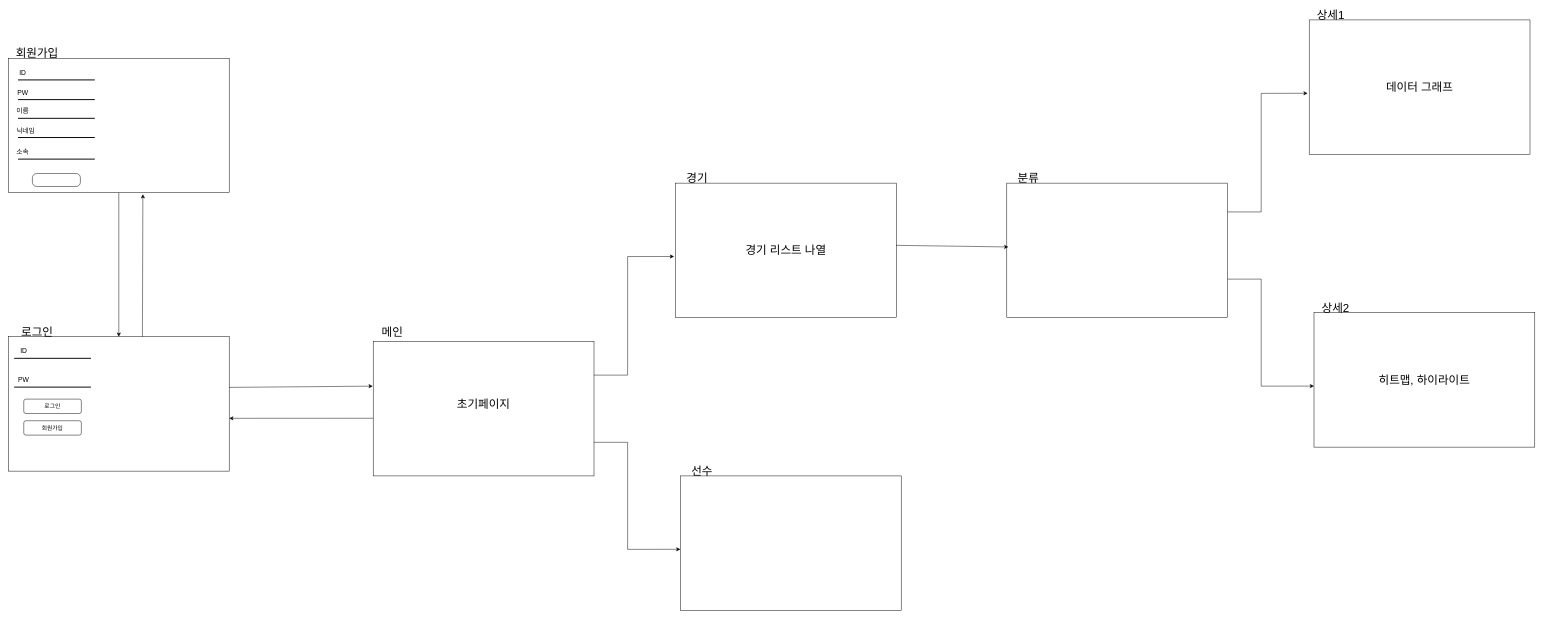
The diagram is 1543 pixels wide and 619 high, and some of its shapes have lost their labels. Here are the shapes that lost their labels. From the top down, the centre of each, then its label:
the point at 56,179: 입력 완료
the point at 1117,250: 상세1 : 데이터 그래프 상세 2 : 히트맵, 하이라이트
the point at 790,542: 프로필 및 데이터 집합체
